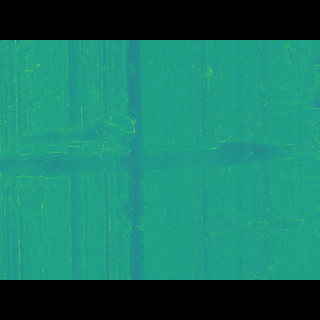Loch: (0, 126, 320, 176), (190, 196, 320, 228), (102, 182, 168, 221)
